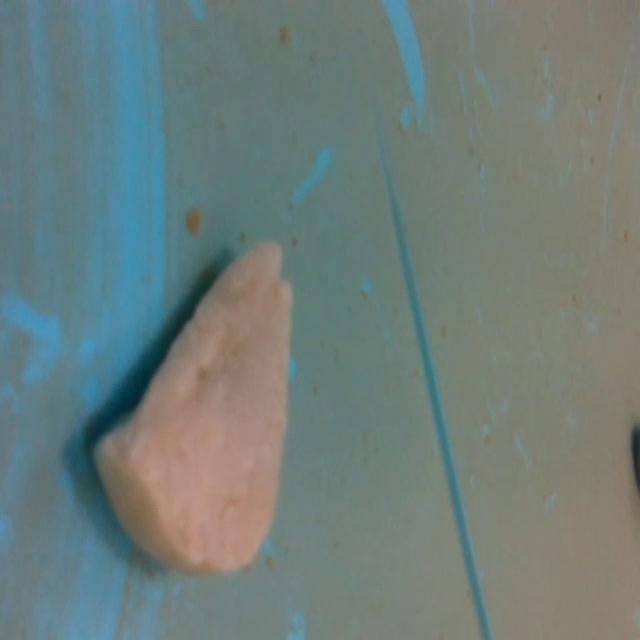rock: (81, 231, 305, 589)
